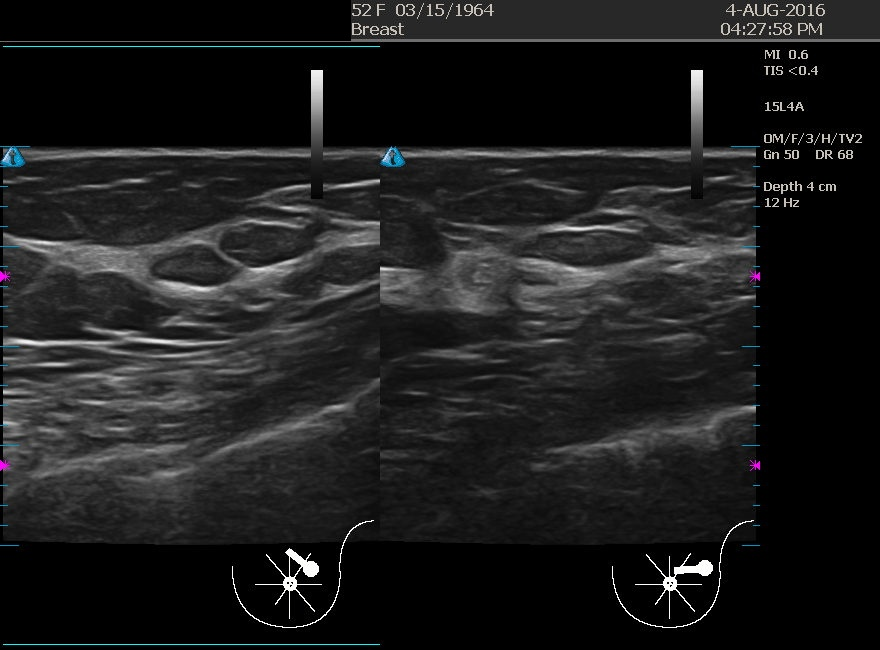BIRADS_3: (134, 202, 334, 402), (474, 170, 674, 370)
